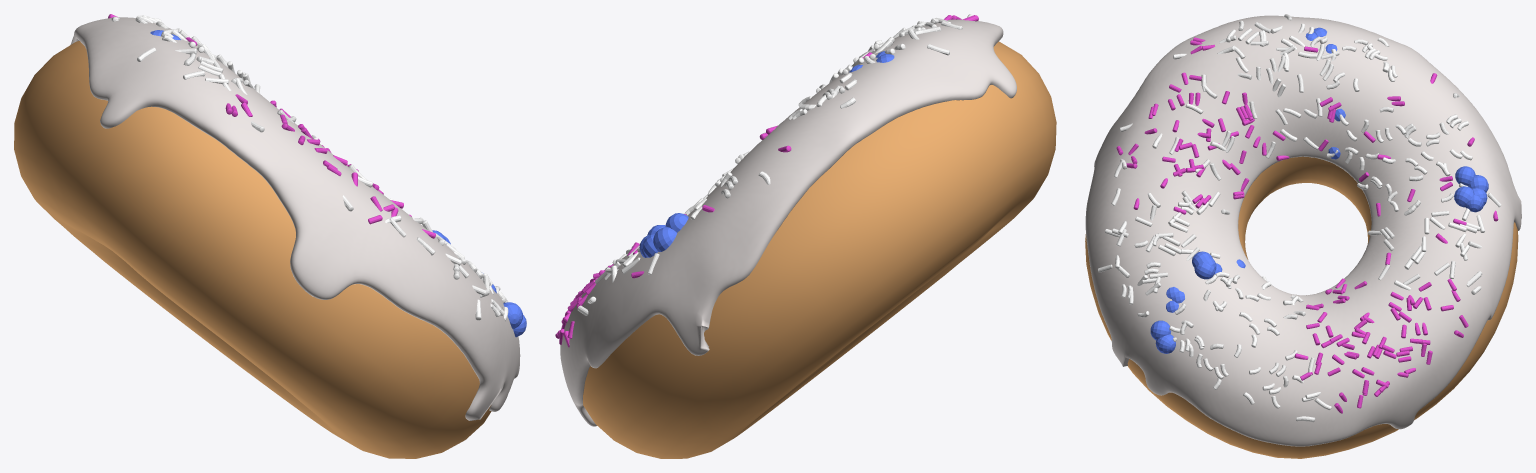
File: donut.glb
3 views of the same model, side by side, from view 1: azimuth 30°, elevation 25°; view 2: azimuth 150°, elevation 25°; view 3: azimuth 270°, elevation 25° (orthographic). The views are drawn at different scales.
Visible parts, largest first — view 1: Donut, Icing; view 2: Donut, Icing; view 3: Icing, Donut.
Part boxes in pixels (x1=…): Donut: x1=14, y1=41, x2=491, y2=458; Icing: x1=70, y1=17, x2=520, y2=420; Donut: x1=583, y1=41, x2=1056, y2=458; Icing: x1=560, y1=19, x2=1016, y2=426; Icing: x1=1085, y1=15, x2=1521, y2=446; Donut: x1=1085, y1=156, x2=1518, y2=458.
Bounding box in the file's own units: 2.79 × 2.77 × 3.17.
